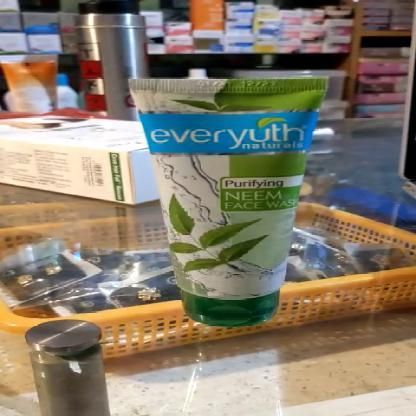EY NATURALS NEEM FACE WASH AY 50G: (126, 75, 344, 327)
